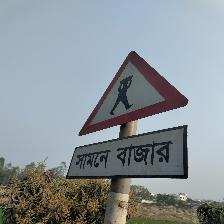Market-in-front: (69, 52, 188, 182)
